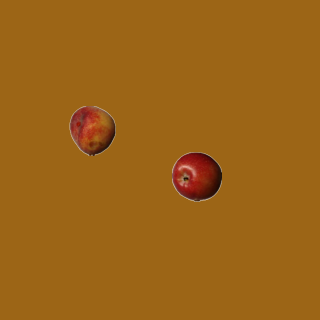Apple Braeburn: (171, 151, 221, 201)
Peach: (67, 105, 117, 155)
